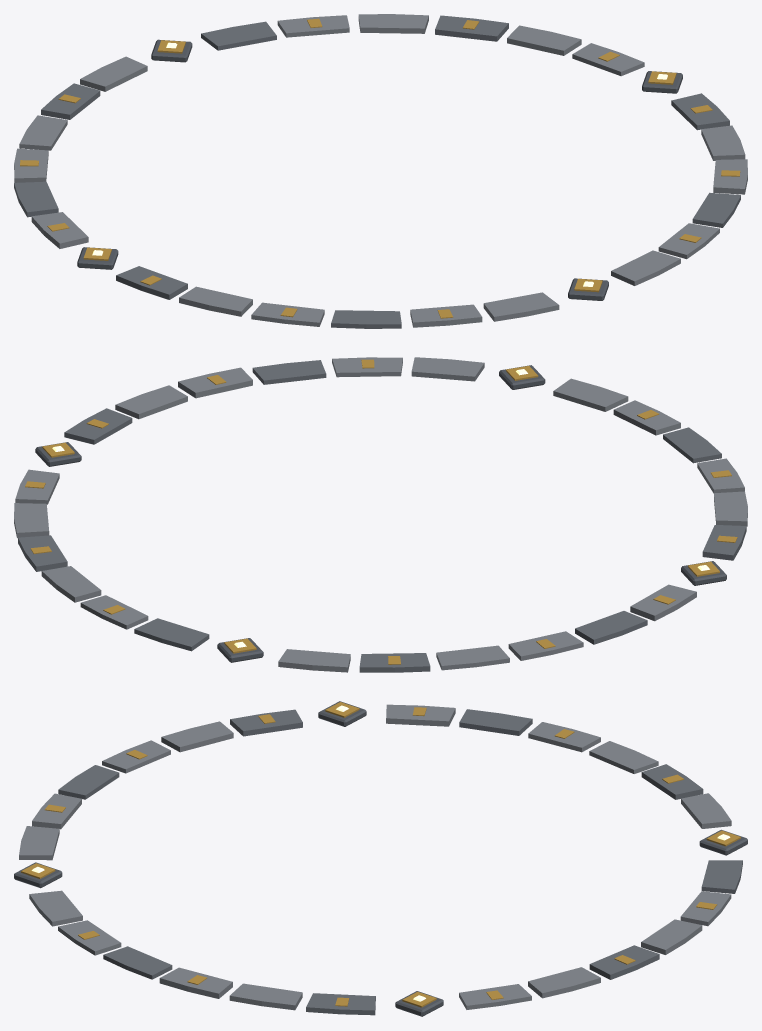
Rendered from Challenge_Ring.fbx.
The picture shows the model from 3 angles, top to bottom: view 1: azimuth 30°, elevation 25°; view 2: azimuth 150°, elevation 25°; view 3: azimuth 270°, elevation 25°; orthographic projection. The views are drawn at different scales.
Parts seen in each view (by area): view 1: Stones, Stones2, Runes, Markers; view 2: Stones, Stones2, Runes, Markers; view 3: Stones, Stones2, Runes, Markers.
Part boxes in pixels (bbox=[...]): Stones: bbox=[14, 14, 747, 327]; Stones2: bbox=[14, 15, 740, 328]; Runes: bbox=[20, 18, 740, 318]; Markers: bbox=[77, 39, 682, 300]; Stones: bbox=[14, 357, 747, 672]; Stones2: bbox=[18, 360, 746, 672]; Runes: bbox=[25, 359, 737, 664]; Markers: bbox=[35, 365, 726, 662]; Stones: bbox=[19, 704, 731, 1010]; Stones2: bbox=[58, 709, 742, 1015]; Runes: bbox=[21, 702, 740, 1007]; Markers: bbox=[14, 701, 747, 1016].
Bounding box in the file's own units: 25.53 × 0.38 × 25.53.
